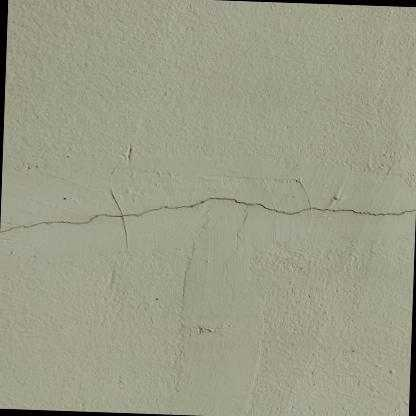crack: (0, 188, 416, 250)
